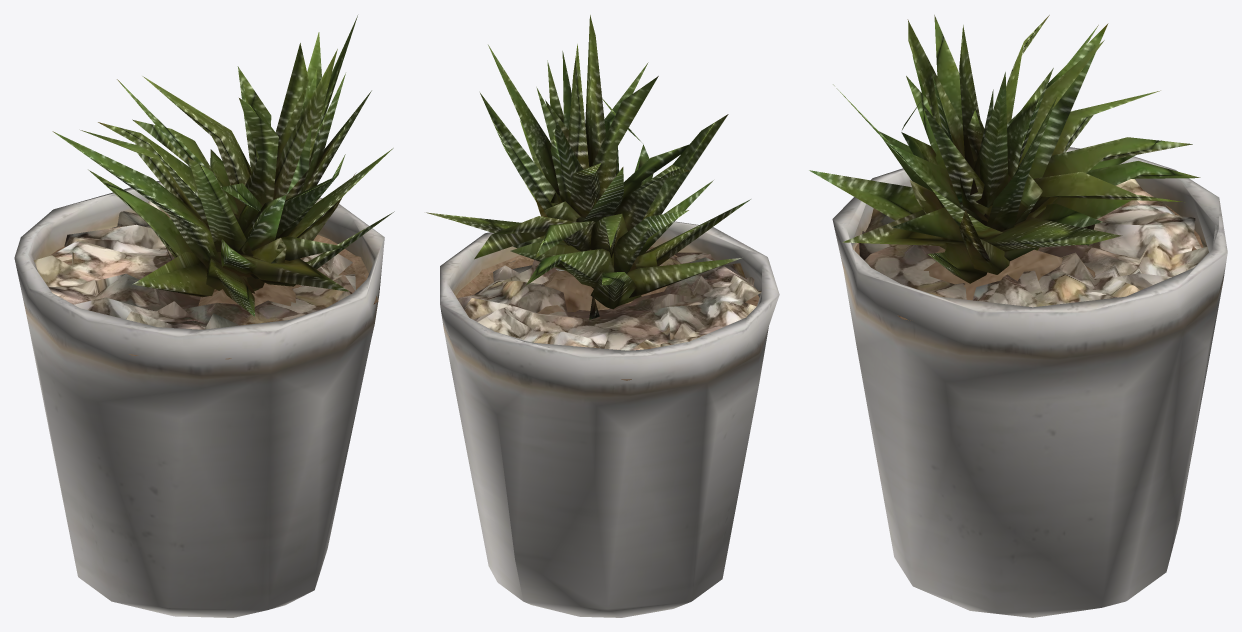
The model's file is potted_plant_04.glb.
3 renders of one model, left to right at view 1: azimuth 30°, elevation 25°; view 2: azimuth 150°, elevation 25°; view 3: azimuth 270°, elevation 25°, orthographic. The views are drawn at different scales.
Parts seen in each view (by area): view 1: potted_plant_04_ground; view 2: potted_plant_04_ground; view 3: potted_plant_04_ground.
Boxes of the visible parts, bbox=[...] form: potted_plant_04_ground: bbox=[14, 15, 394, 617]; potted_plant_04_ground: bbox=[426, 15, 779, 617]; potted_plant_04_ground: bbox=[809, 15, 1227, 617].
Size of the model in its own units: 0.1634 by 0.2672 by 0.1735.
Materials: 1 (1 with a texture image).
